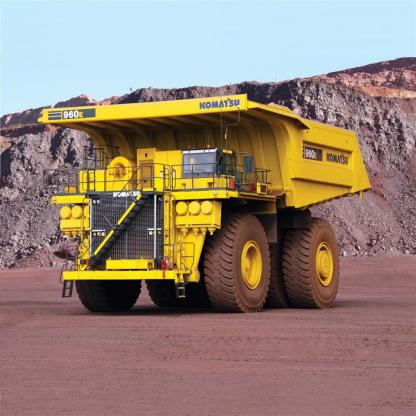dump_truck: (30, 97, 376, 307)
